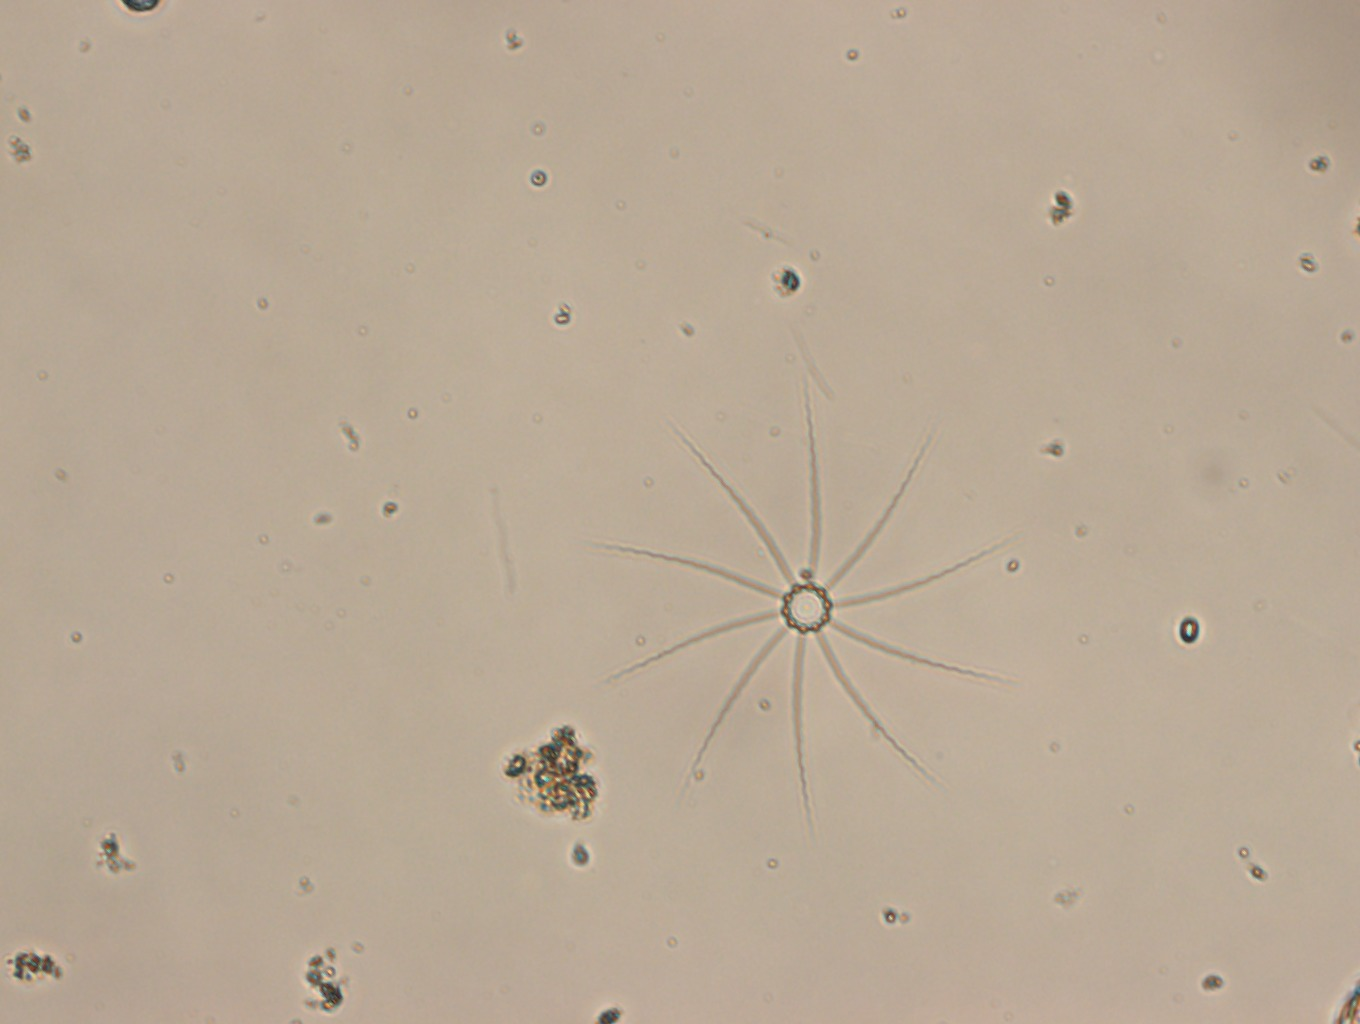bacteriastrum: (602, 367, 1026, 833)
